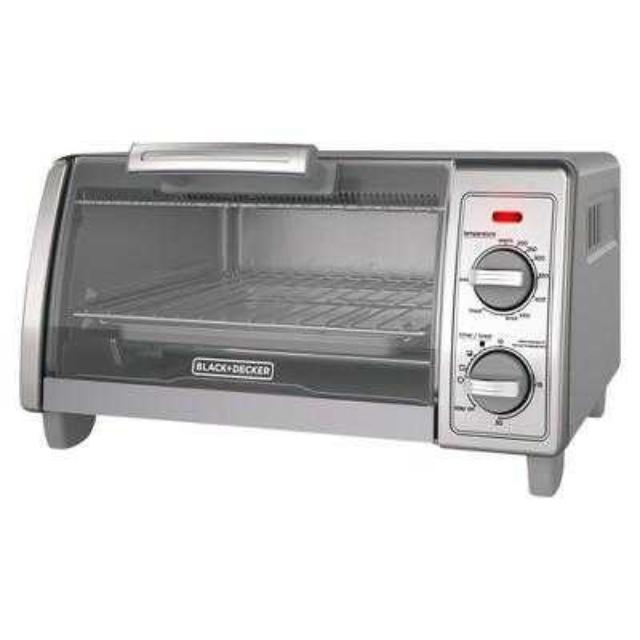Oven: (14, 138, 612, 466)
